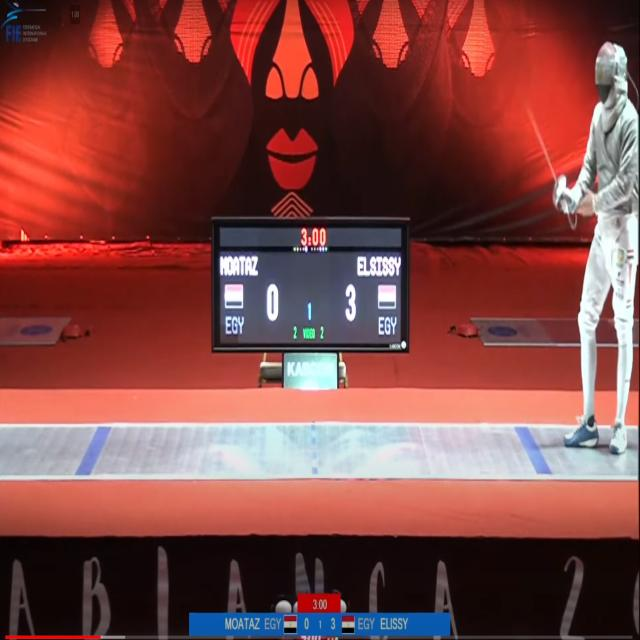fencer: (542, 31, 639, 463)
overlayLeft: (189, 614, 299, 637)
overlayRight: (341, 614, 451, 639)
scoreLeft: (299, 613, 314, 635)
scoreRight: (326, 612, 340, 637)
